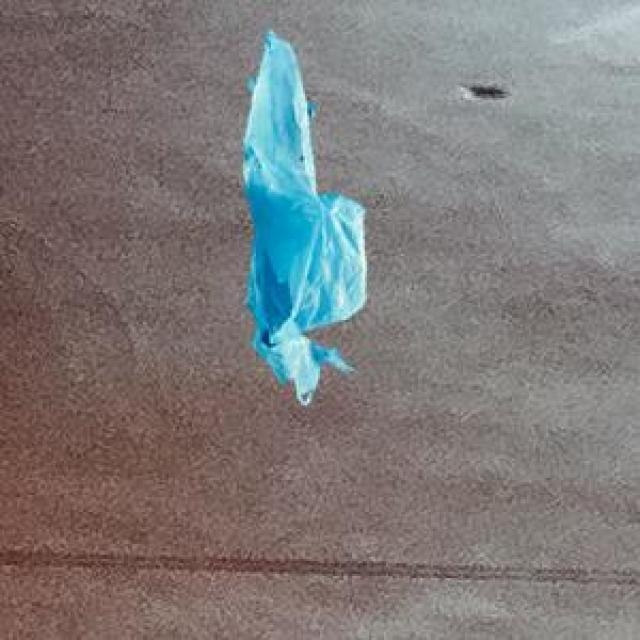waste: (244, 32, 365, 403)
